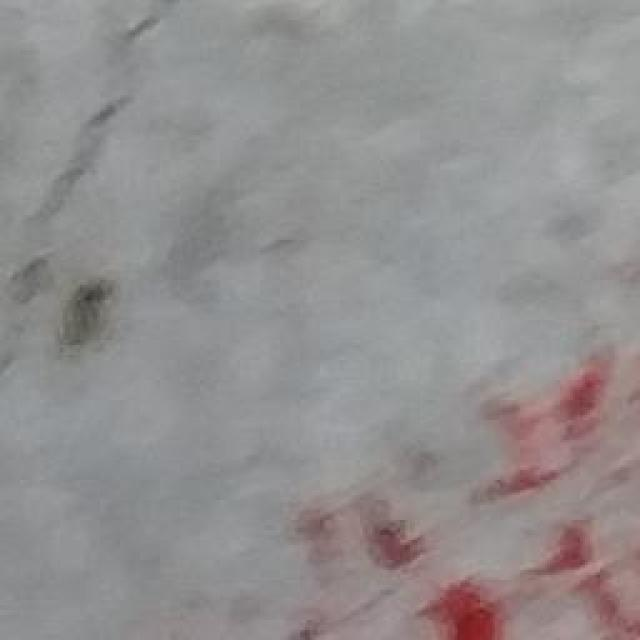Diagonal: (0, 0, 182, 322)
